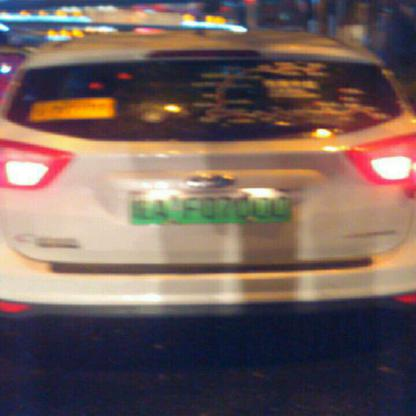lp: (130, 192, 290, 223)
